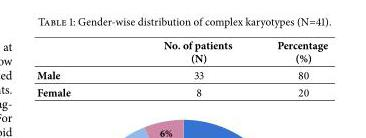table: (36, 36, 327, 99)
table column: (116, 36, 253, 99), (36, 36, 116, 99), (253, 36, 327, 99)
table column header: (36, 36, 327, 66)
table row: (36, 36, 327, 66), (36, 66, 327, 83), (36, 83, 327, 99)
